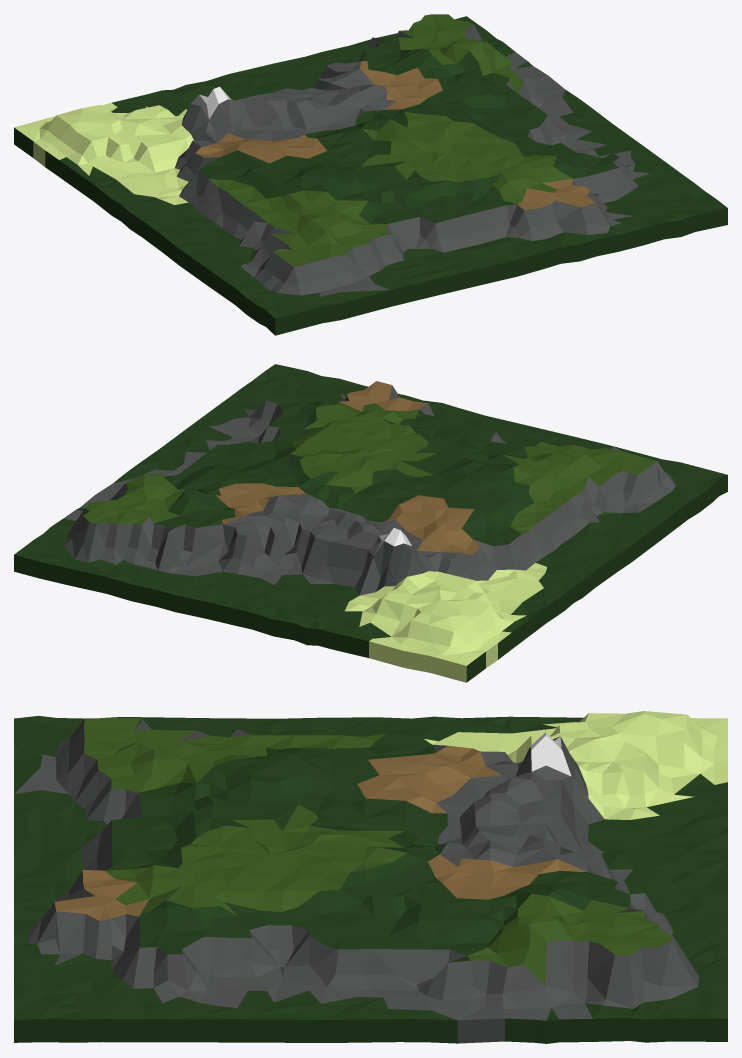
File: epsteinisland.fbx
3 renders of one model, top to bottom at view 1: azimuth 30°, elevation 25°; view 2: azimuth 150°, elevation 25°; view 3: azimuth 270°, elevation 25°, orthographic. The views are drawn at different scales.
Visible parts, largest first — view 1: Plane; view 2: Plane; view 3: Plane.
Boxes of the visible parts, left/top/right/bottom form: Plane: left=14, top=14, right=727, bottom=335; Plane: left=14, top=364, right=727, bottom=682; Plane: left=14, top=711, right=727, bottom=1043.
Bounding box in the file's own units: 3002 × 467 × 3001.
